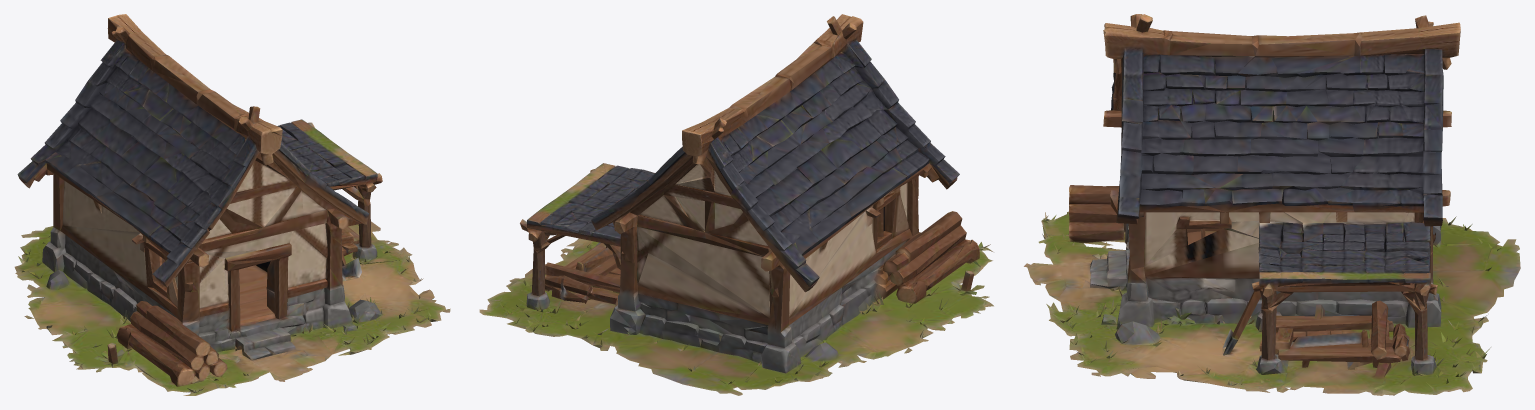
The model's file is lumbercamp.glb.
3 renders of one model, left to right at view 1: azimuth 30°, elevation 25°; view 2: azimuth 150°, elevation 25°; view 3: azimuth 270°, elevation 25°, orthographic. The views are drawn at different scales.
Size of the model in its own units: 1.88 by 1.11 by 1.87.
1 material, 1 textured.
